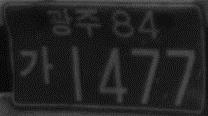1: (70, 44, 86, 101)
4: (97, 47, 129, 105), (136, 8, 161, 40)
7: (164, 47, 197, 108), (131, 46, 161, 105)
8: (110, 9, 134, 39)
가: (19, 44, 56, 87)
광주_O: (45, 6, 102, 41)
